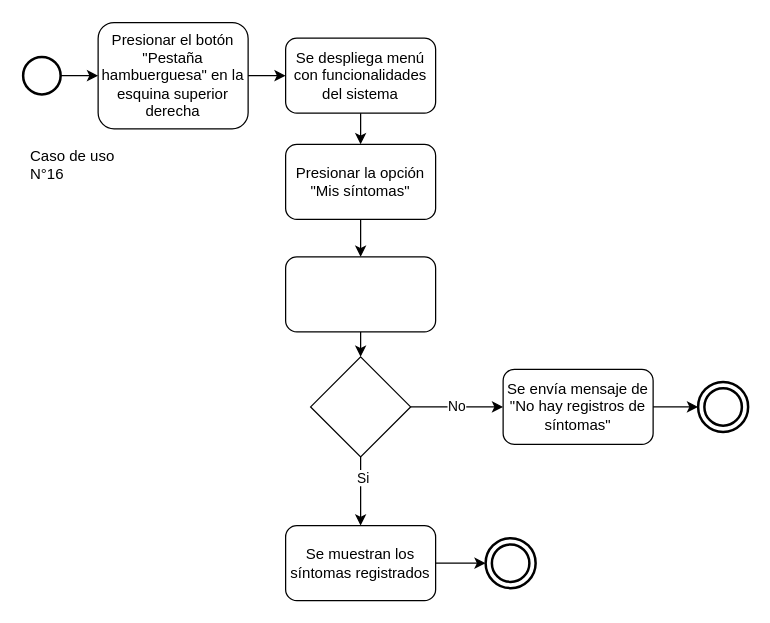
This 770x623 diagram has some shape labels left out. Here are the shapes that lost their labels. From the top down, the box of each, then its label:
(284, 256, 436, 332): Se despliega página de síntomas registrados
(309, 356, 411, 457): ¿Existe registro de síntomas?
